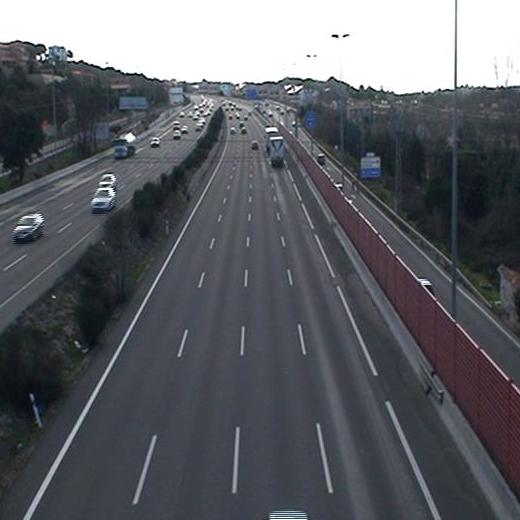truck: (265, 135, 288, 168)
